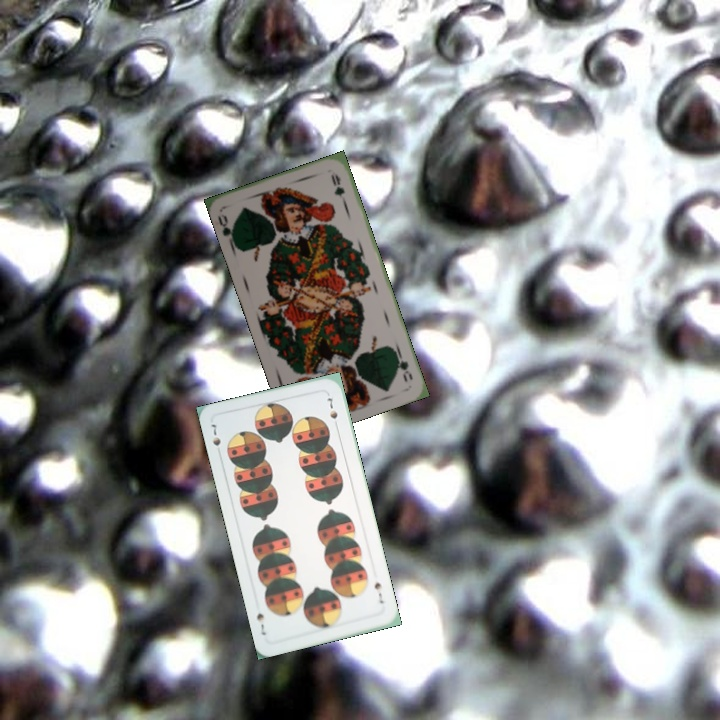GO: (214, 210, 237, 249), (392, 346, 415, 384)
S7: (370, 578, 387, 606), (207, 419, 223, 448)
